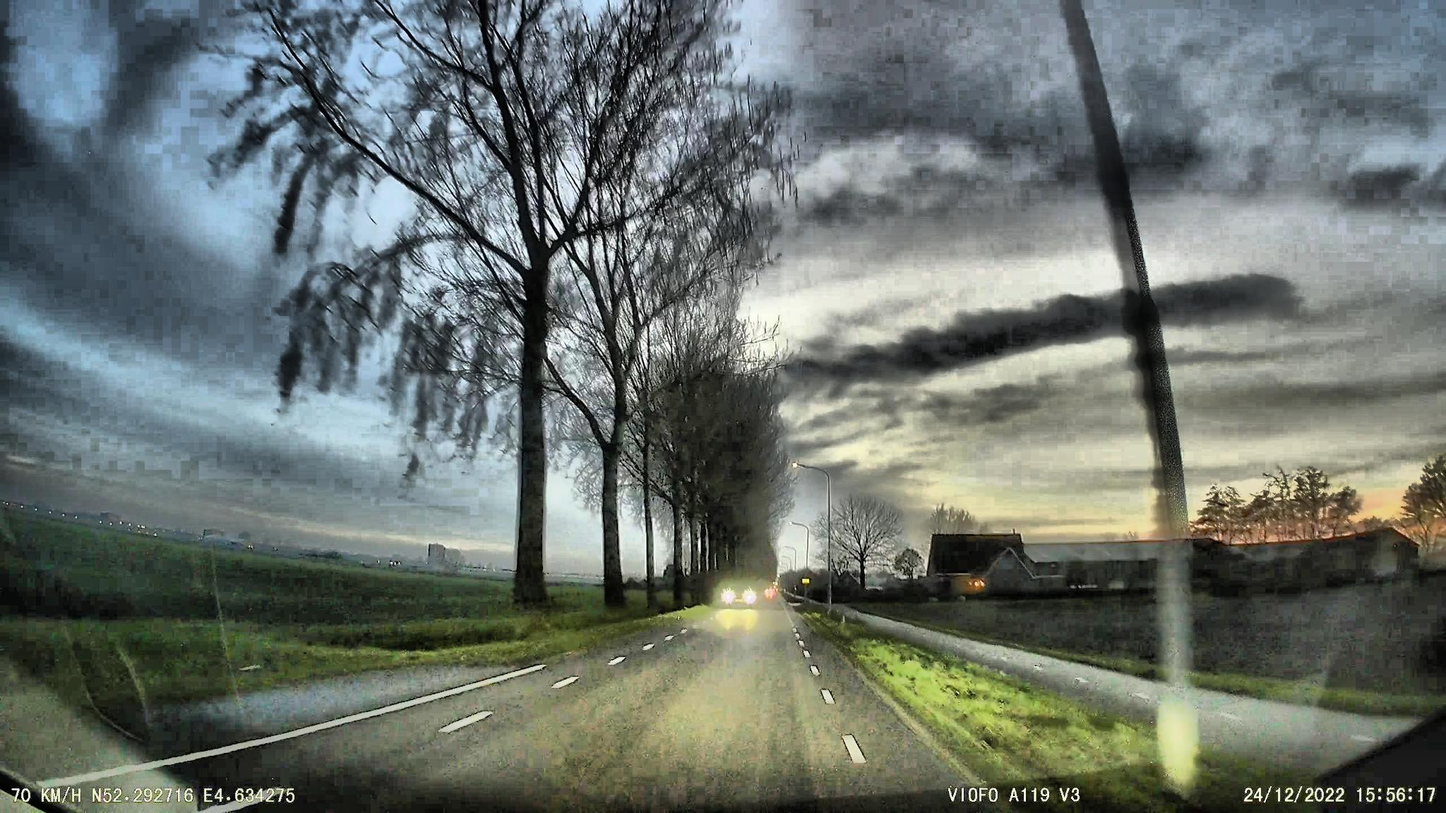Roads: (117, 613, 959, 810)
